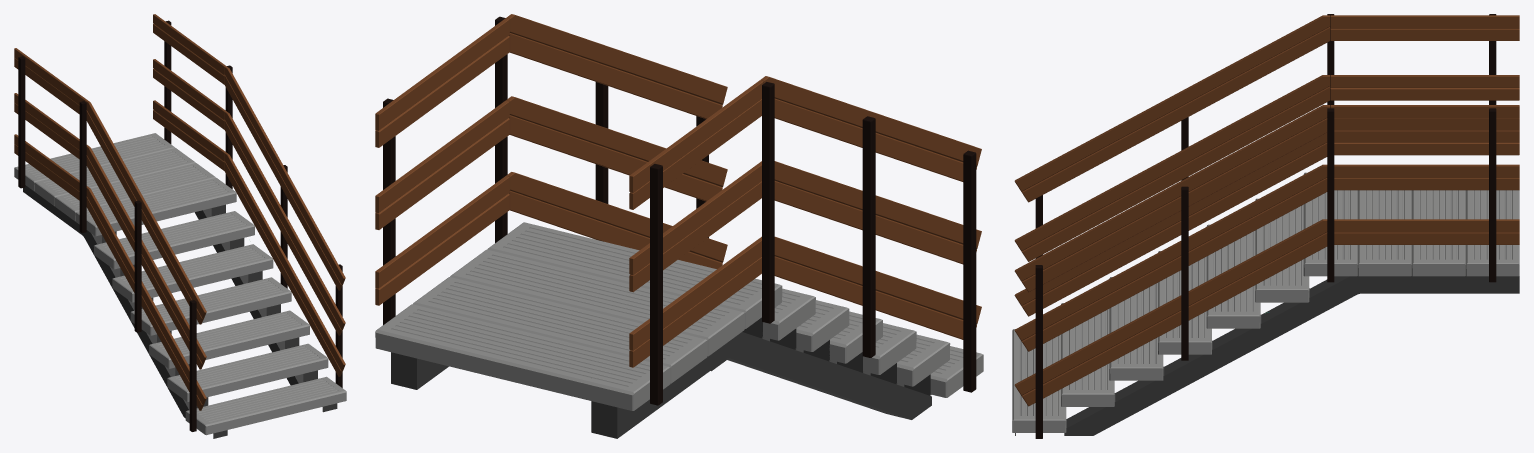
Rendered from outdoor_staircase.obj.
The picture shows the model from 3 angles, left to right: view 1: azimuth 30°, elevation 25°; view 2: azimuth 150°, elevation 25°; view 3: azimuth 270°, elevation 25°; orthographic projection. The views are drawn at different scales.
Parts seen in each view (by area): view 1: Stair069, Stair062, Stair055, Stair041, Stair034, Stair048, Stair, Bottom002, Stair007, Stair014, Stair021, Box089 (+32 smaller); view 2: Stair021, Bottom002, Stair014, Stair007, Stair, Box012, Box011, Box117, Box037, Box121, Box125, Box118 (+31 smaller); view 3: Bottom1, Box117, Box121, Box012, Box037, Box089, Box118, Box122, Box090, Box126, Box011, Box038 (+27 smaller).
Part boxes in pixels (x1,y1,x2,y2): Stair069: [185, 376, 346, 435]; Stair062: [167, 343, 328, 401]; Stair055: [149, 310, 309, 368]; Stair041: [112, 244, 273, 302]; Stair034: [93, 211, 254, 269]; Stair048: [130, 277, 291, 335]; Stair: [75, 178, 236, 236]; Bottom002: [23, 185, 227, 438]; Stair007: [55, 163, 216, 221]; Stair014: [34, 148, 195, 206]; Stair021: [14, 133, 175, 191]; Box089: [224, 152, 345, 370]; Stair021: [375, 304, 670, 410]; Bottom002: [591, 317, 931, 438]; Stair014: [413, 277, 707, 383]; Stair007: [450, 249, 744, 356]; Stair: [487, 222, 782, 328]; Box012: [506, 14, 727, 104]; Box011: [509, 33, 722, 119]; Box117: [760, 76, 981, 166]; Box037: [506, 96, 727, 186]; Box121: [760, 161, 981, 248]; Box125: [760, 236, 981, 324]; Box118: [774, 98, 976, 181]; Bottom1: [1015, 276, 1519, 435]; Box117: [1014, 15, 1330, 191]; Box121: [1014, 75, 1330, 251]; Box012: [1014, 105, 1330, 281]; Box037: [1014, 164, 1327, 340]; Box089: [1014, 219, 1327, 395]; Box118: [1021, 27, 1330, 202]; Box122: [1021, 86, 1330, 261]; Box090: [1021, 232, 1327, 406]; Box126: [1021, 142, 1327, 316]; Box011: [1022, 118, 1327, 292]; Box038: [1021, 178, 1327, 351].
Size of what is drawn, in the model's own units: 128 by 206 by 282.
